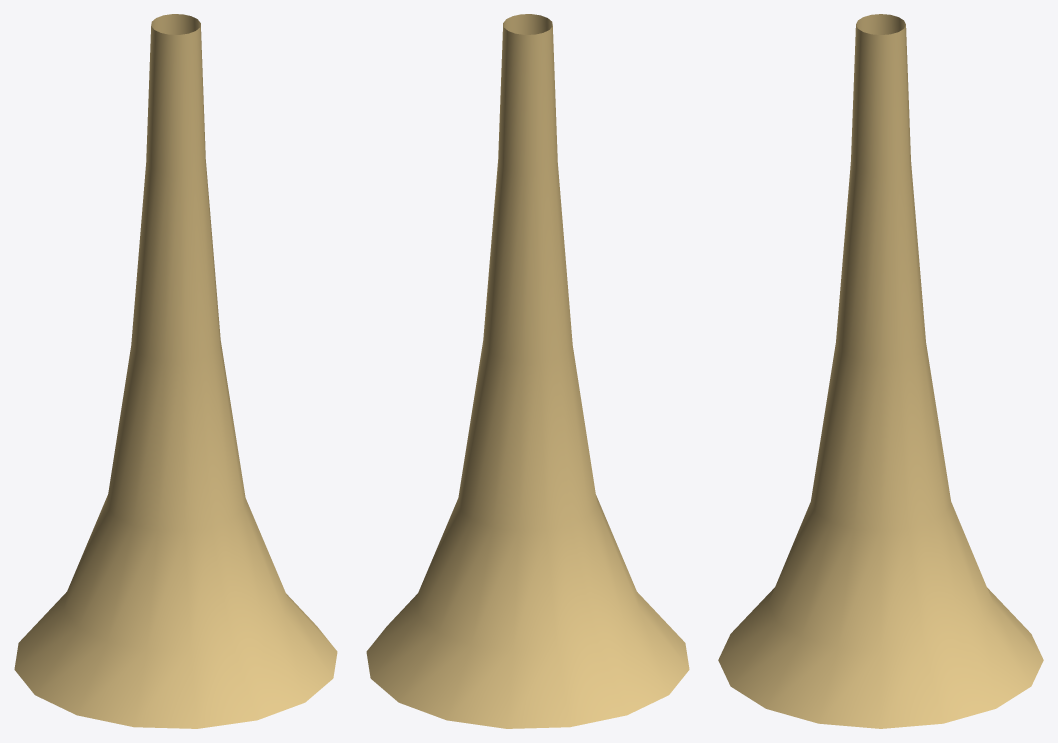
File: prop-trumpet-bell-blank.fbx
3 renders of one model, left to right at view 1: azimuth 30°, elevation 25°; view 2: azimuth 150°, elevation 25°; view 3: azimuth 270°, elevation 25°, orthographic.
Visible parts, largest first — view 1: prop-trumpet-bell-blank; view 2: prop-trumpet-bell-blank; view 3: prop-trumpet-bell-blank.
Part boxes in pixels (x1=…): prop-trumpet-bell-blank: x1=14, y1=14, x2=337, y2=728; prop-trumpet-bell-blank: x1=366, y1=14, x2=689, y2=728; prop-trumpet-bell-blank: x1=718, y1=14, x2=1043, y2=728.
Bounding box in the file's own units: 13 × 28 × 13.
